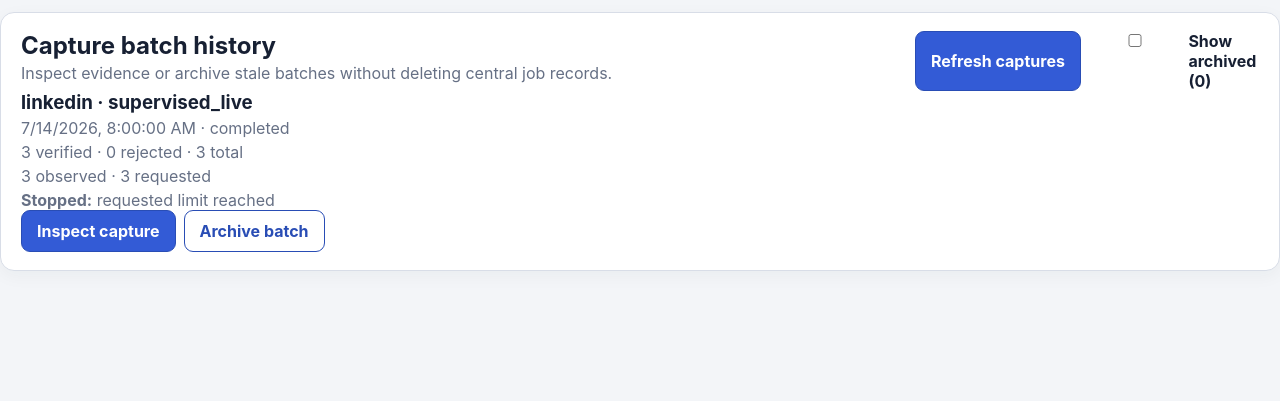
Scenario: CaptureHistory › shows configured bounds, observed counts, and stop reason in summary and diagnostics
expect the text "3 observed · 3 requested" is shown: met, box [21,166,211,186]
expect the text "requested limit reached" is shown: met, box [97,190,275,210]
Click the button "Inspect capture" at (98, 231), box [21,210,176,252]
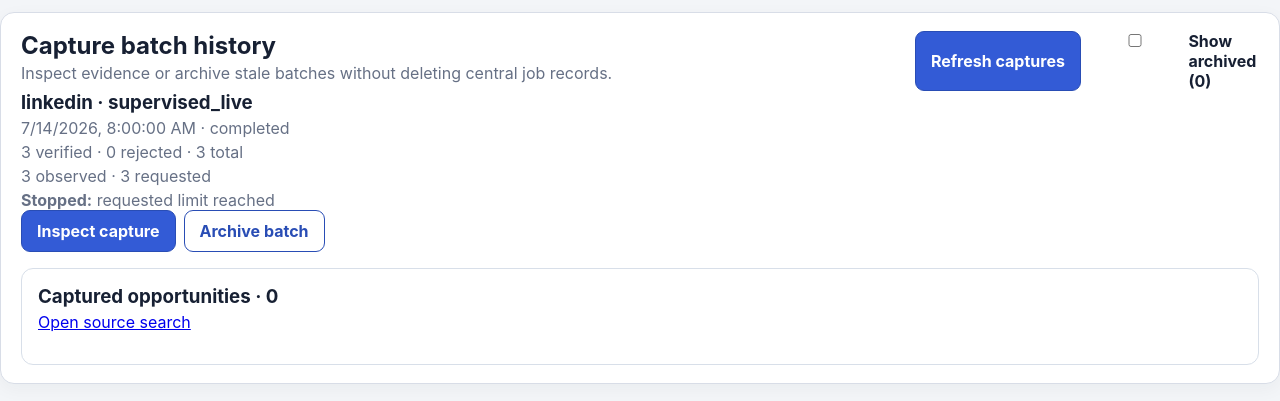
expect the text "3 observed · 3 requested" is shown once: met, box [21,166,211,186]
expect the heading "Captured opportunities · 0" is shown: met, box [38,285,278,308]
